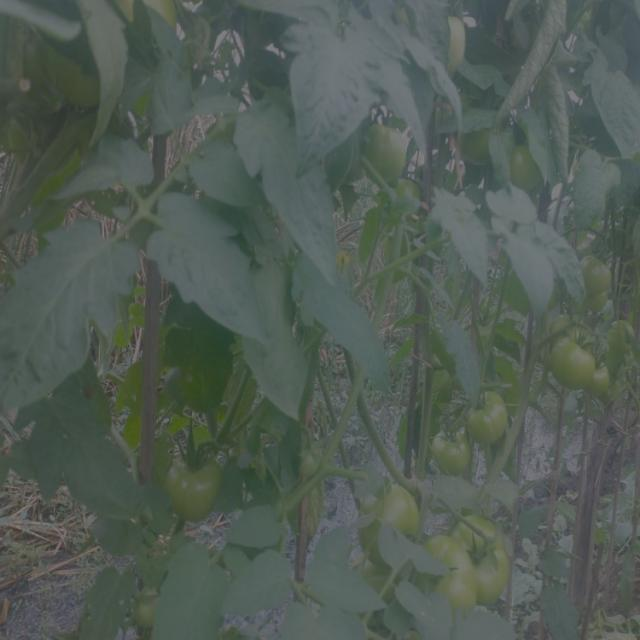tomato: (48, 1, 183, 115), (422, 515, 513, 612), (356, 483, 416, 566), (161, 452, 229, 513), (552, 337, 614, 398), (574, 252, 613, 313), (369, 132, 413, 181), (471, 393, 514, 443), (431, 432, 470, 486), (517, 145, 544, 194), (447, 18, 469, 67), (459, 137, 498, 159), (134, 591, 161, 621)
